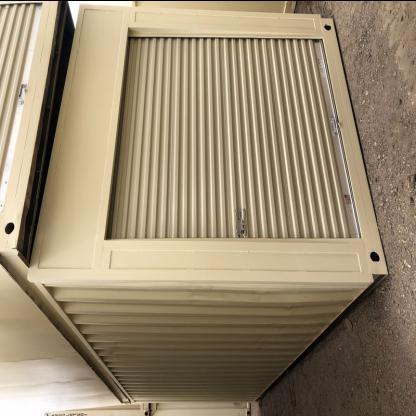Damage: (250, 295, 300, 329), (95, 330, 119, 362)
